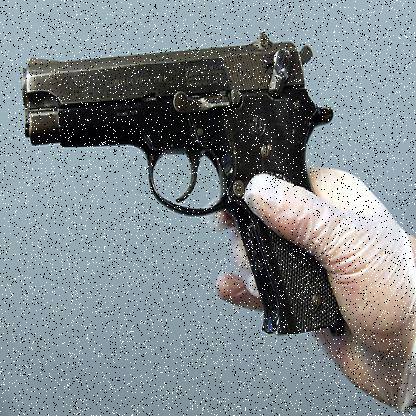pistol: (17, 28, 344, 334)
